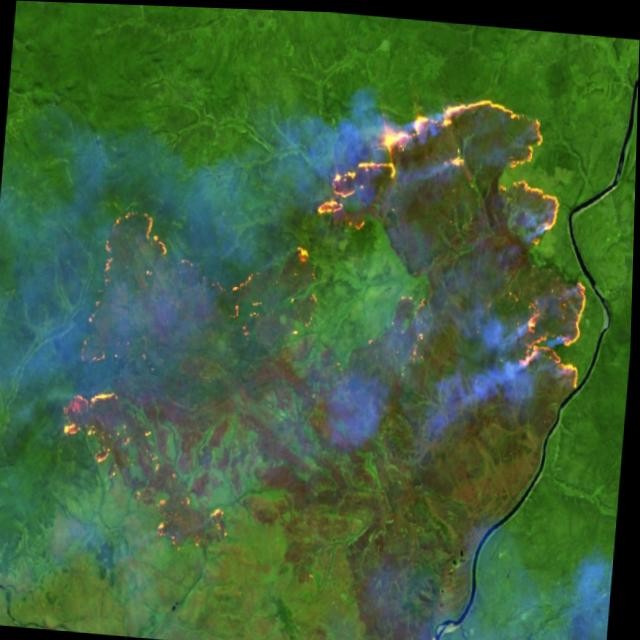fire: (41, 54, 609, 588)
